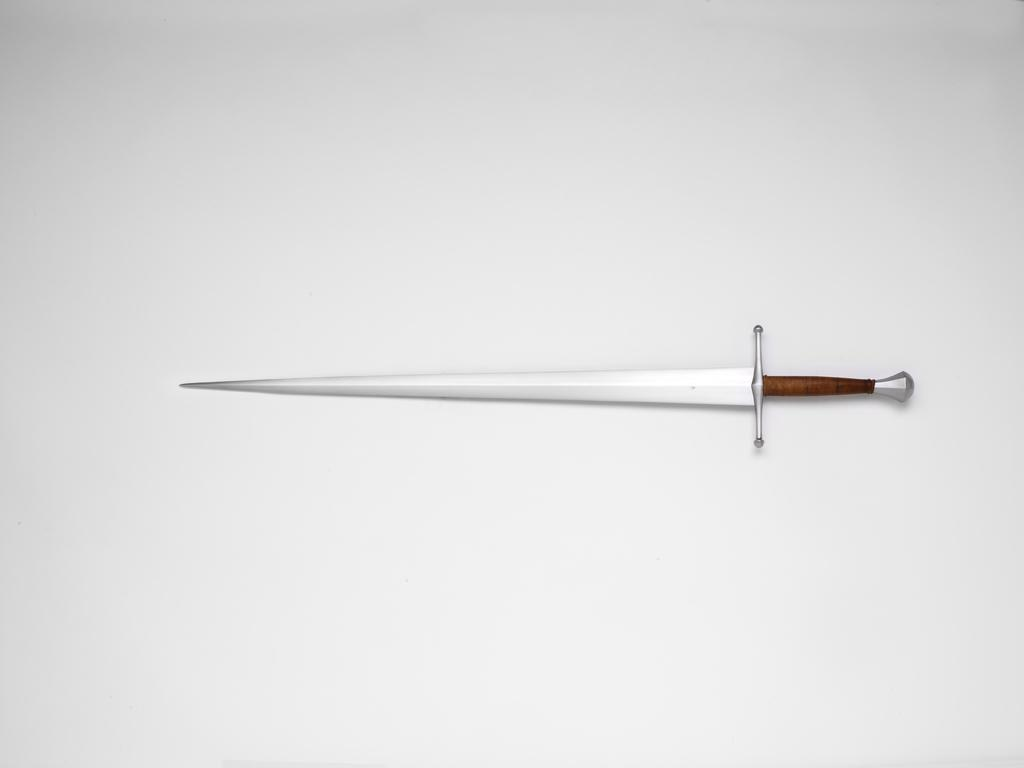Sword: (176, 327, 914, 446)
